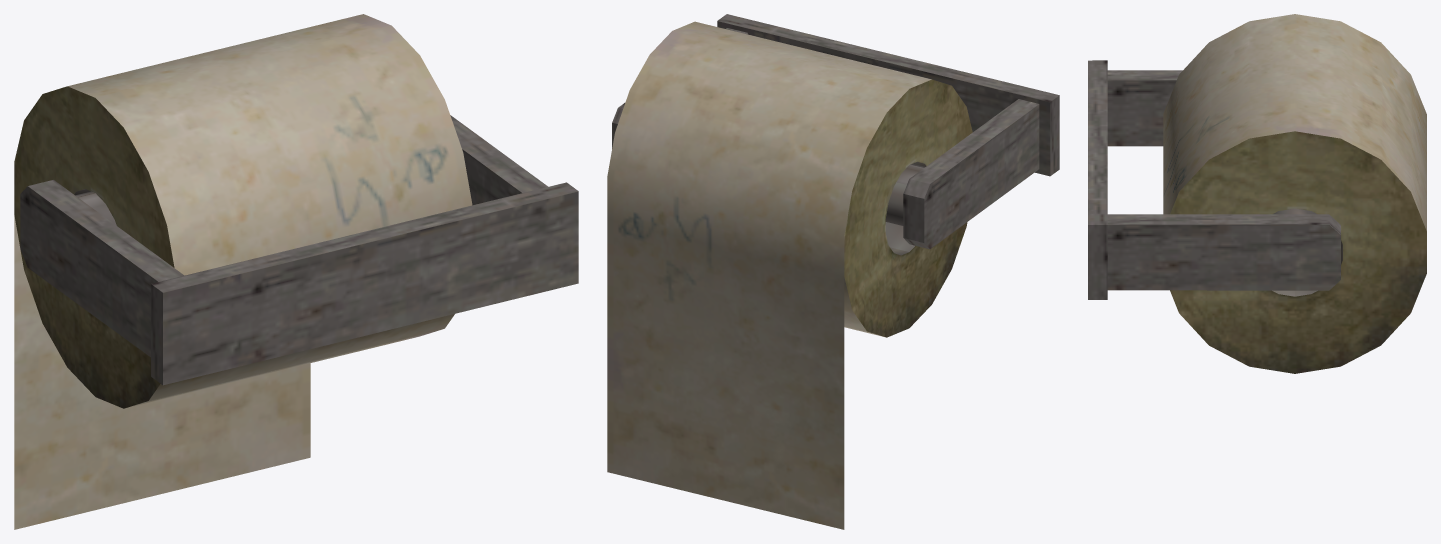
The model's file is toilet_paper_rack.glb.
The picture shows the model from 3 angles, left to right: view 1: azimuth 30°, elevation 25°; view 2: azimuth 150°, elevation 25°; view 3: azimuth 270°, elevation 25°; orthographic projection. The views are drawn at different scales.
Parts seen in each view (by area): view 1: Toilet_paper_rack; view 2: Toilet_paper_rack; view 3: Toilet_paper_rack.
Part boxes in pixels (x1,y1,x2,y2): Toilet_paper_rack: [14, 14, 578, 529]; Toilet_paper_rack: [607, 14, 1059, 529]; Toilet_paper_rack: [1088, 14, 1426, 373].
Size of the model in its own units: 0.16 by 0.1807 by 0.1392.
Materials: 1 (1 with a texture image).
